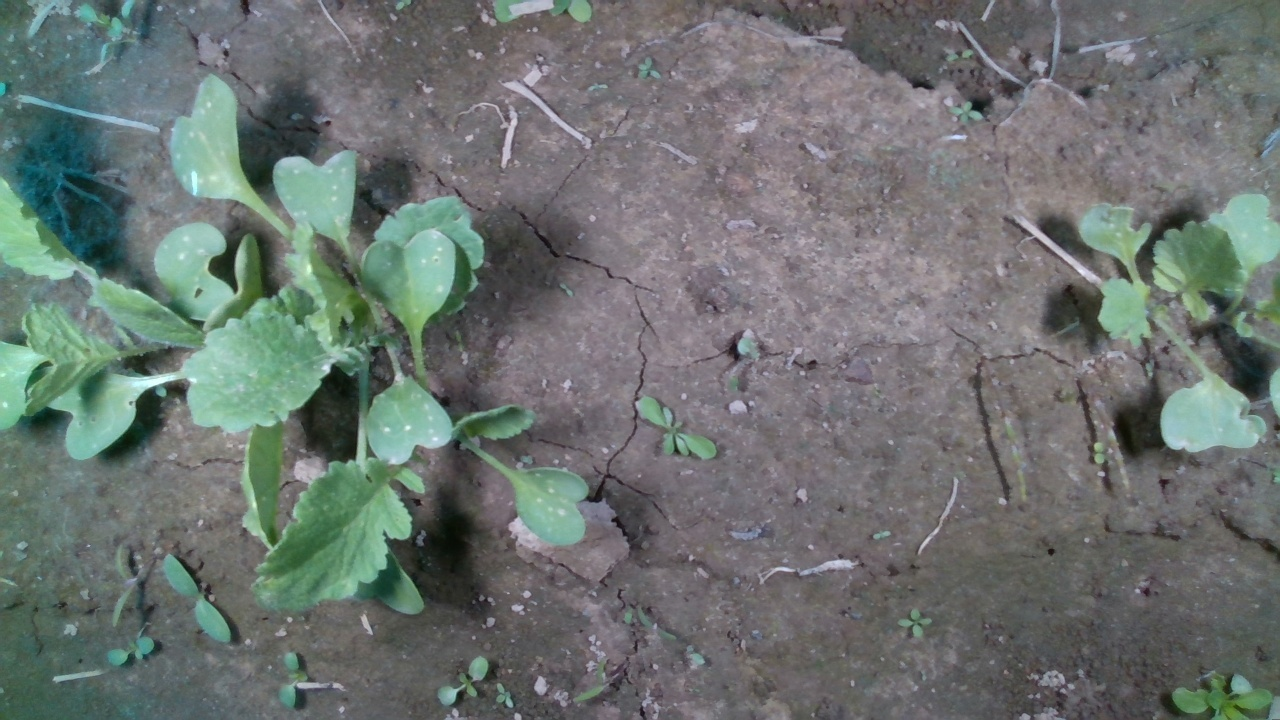weed: (162, 552, 232, 646), (635, 396, 717, 461), (435, 655, 489, 707), (110, 542, 136, 627), (276, 650, 308, 711), (106, 636, 154, 666), (895, 605, 933, 640), (946, 98, 984, 126), (636, 55, 661, 80), (494, 681, 514, 709), (1093, 440, 1107, 464), (871, 530, 893, 542)
